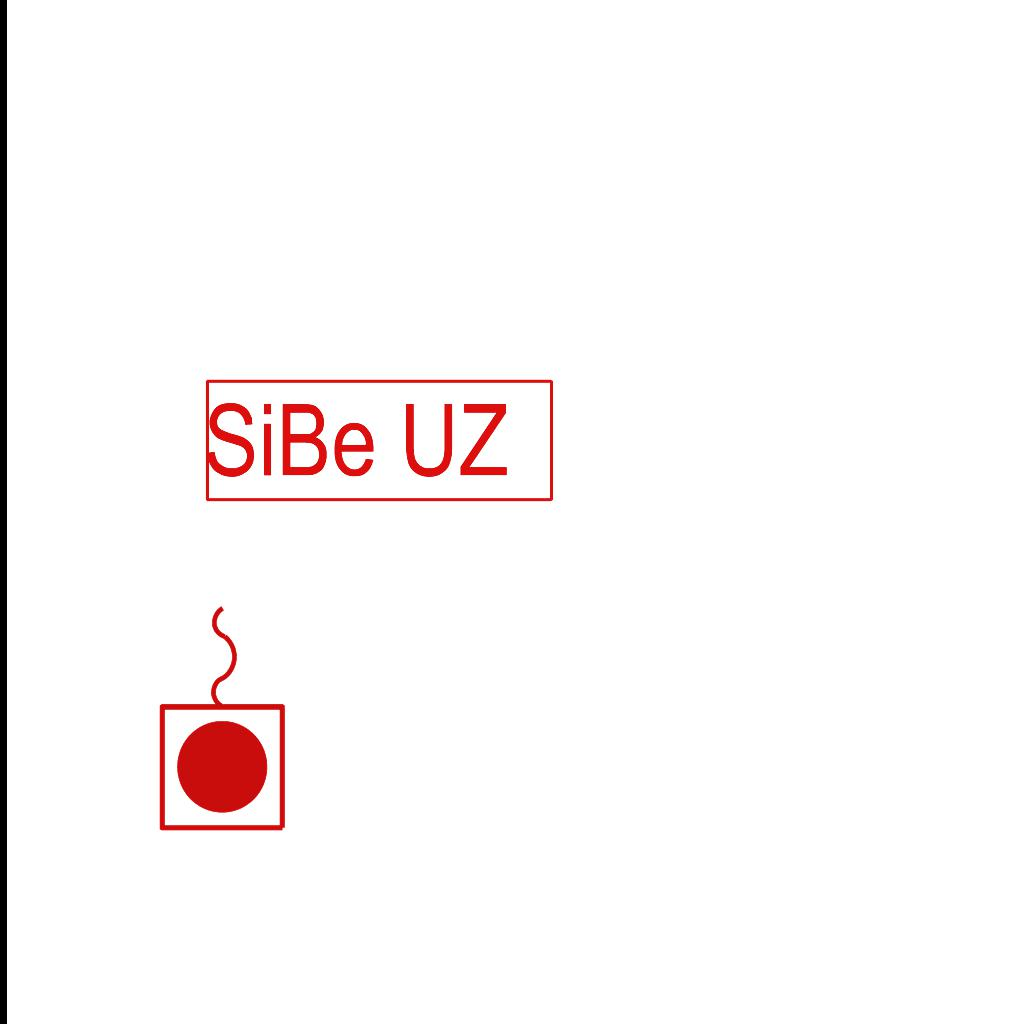Zentrale_Sicherheitsbeleuchtung: (202, 376, 559, 506)
Zugtaster: (152, 595, 296, 839)
